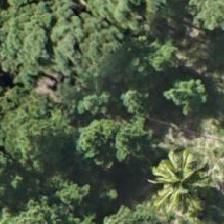coconut_tree: (141, 140, 223, 223)
